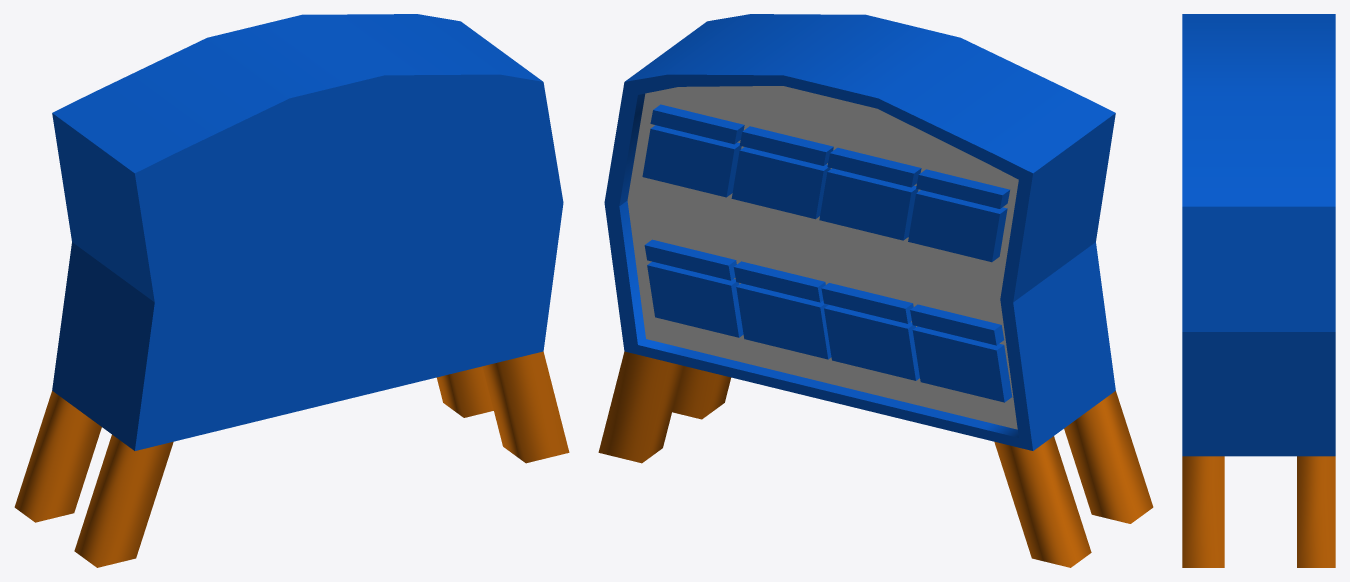
Rendered from MailboxFlat.fbx.
3 renders of one model, left to right at view 1: azimuth 30°, elevation 25°; view 2: azimuth 150°, elevation 25°; view 3: azimuth 270°, elevation 25°, orthographic. The views are drawn at different scales.
Parts seen in each view (by area): view 1: Cube.008; view 2: Cube.008; view 3: Cube.008.
Part boxes in pixels (x1,y1,x2,y2): Cube.008: (14,14,569,567); Cube.008: (598,14,1153,567); Cube.008: (1182,14,1335,567).
Size of the model in its own units: 1969 by 1684 by 597.
